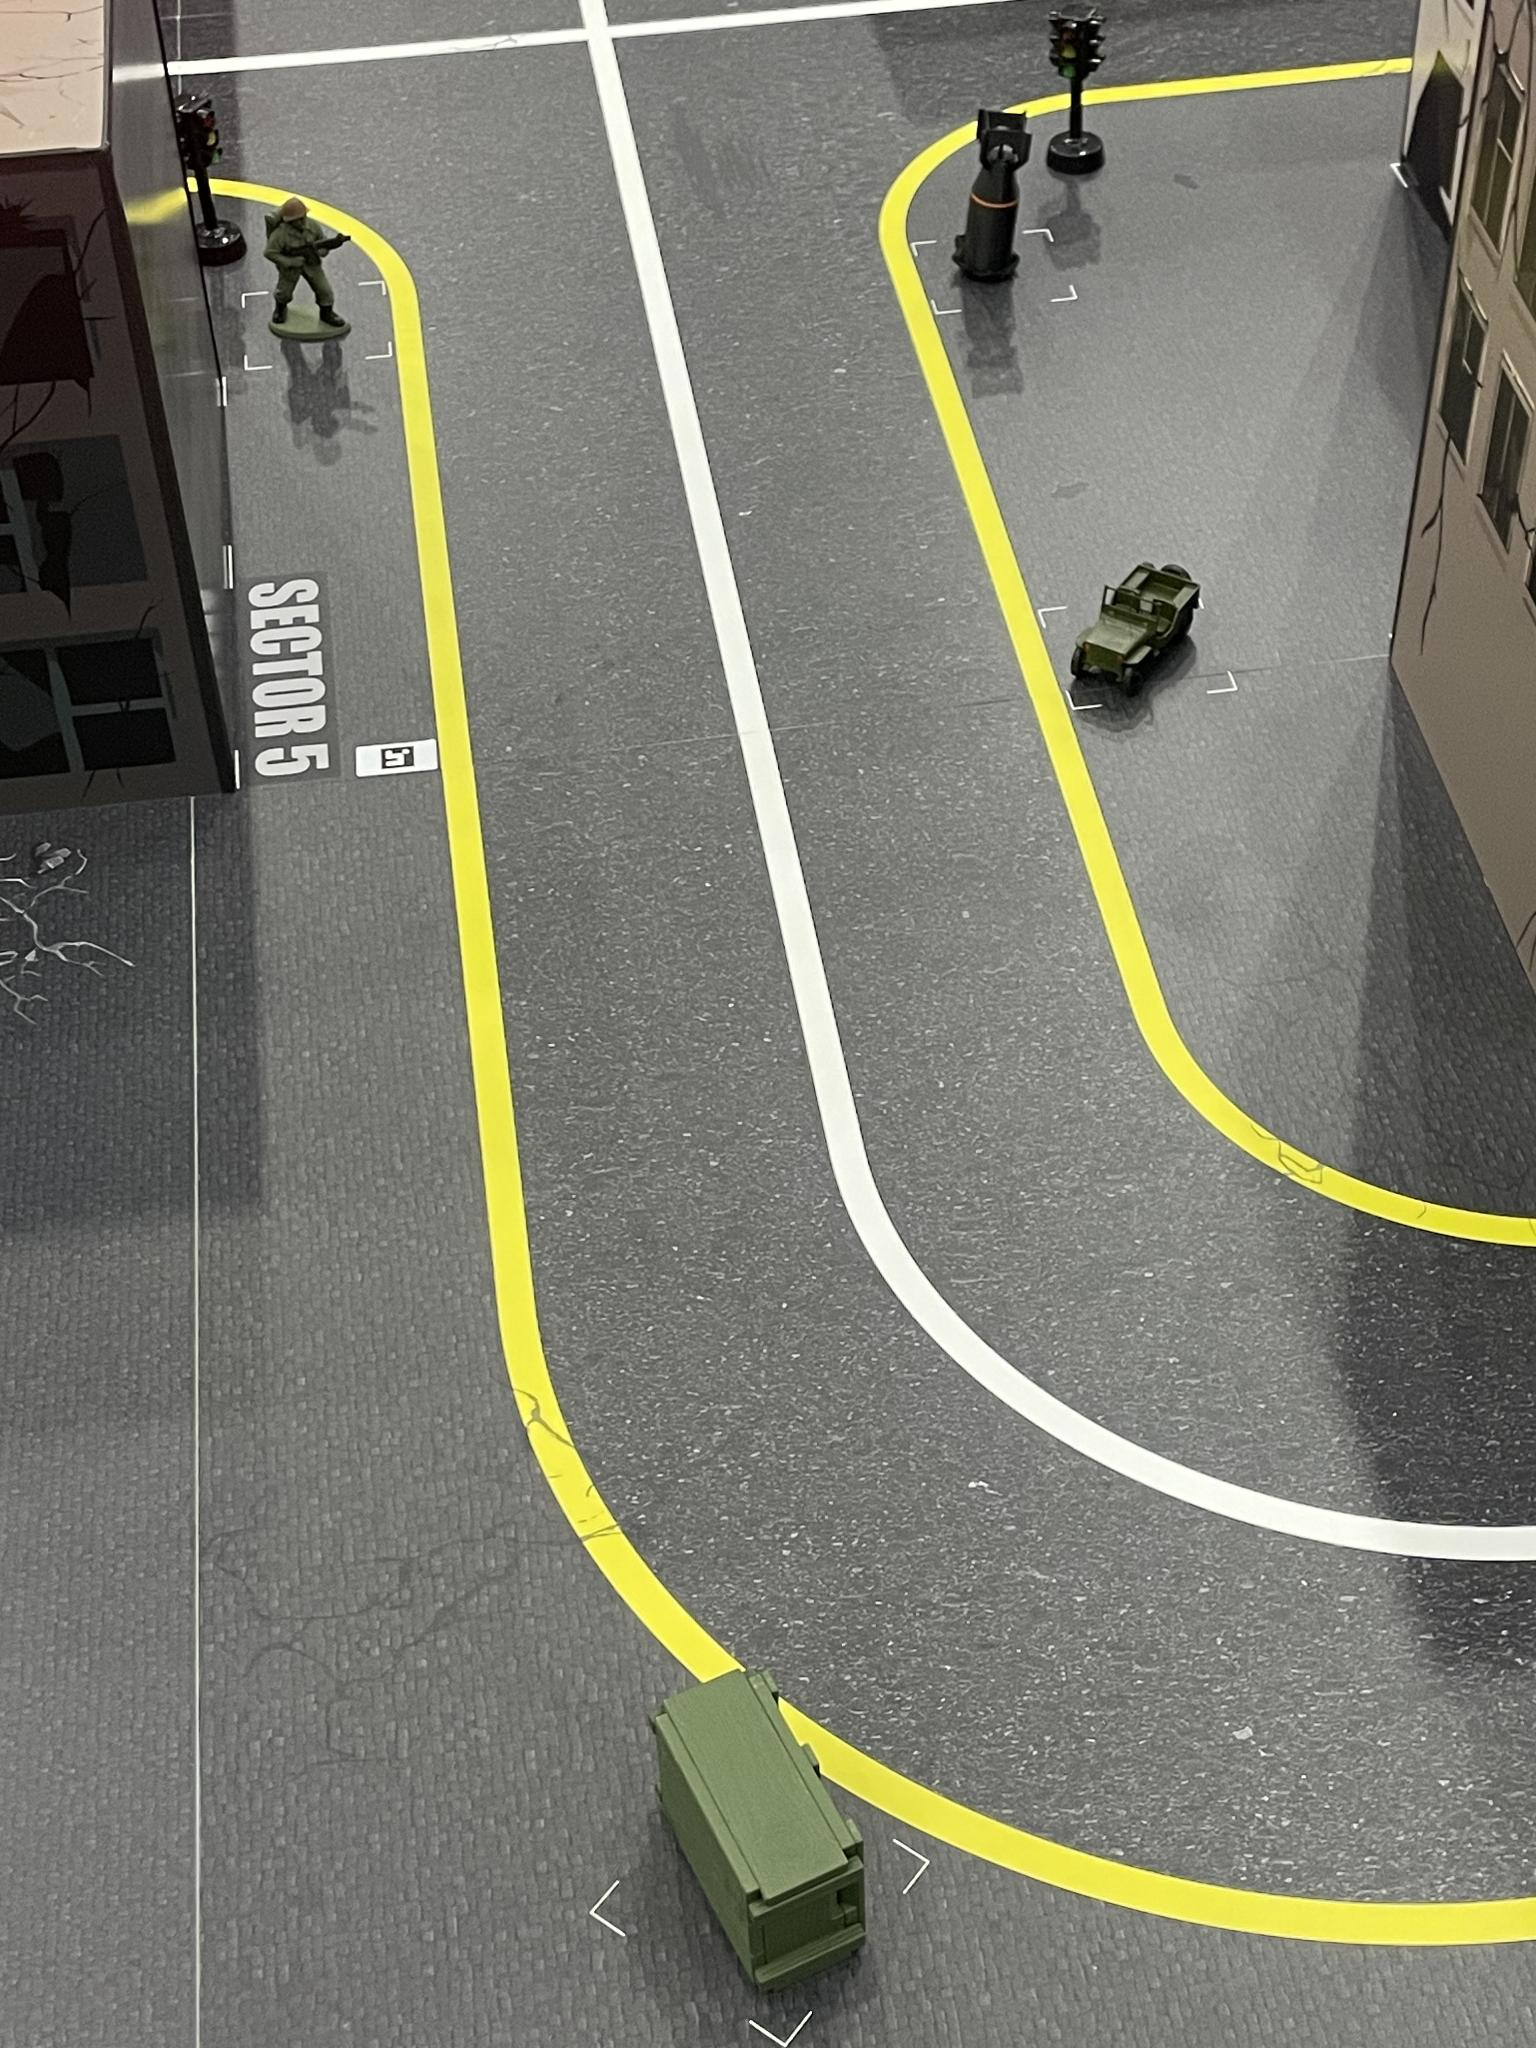Box: (637, 1656, 891, 1998)
Car: (1070, 558, 1207, 703)
Enemy: (260, 194, 363, 353)
Missile: (947, 102, 1047, 292)
